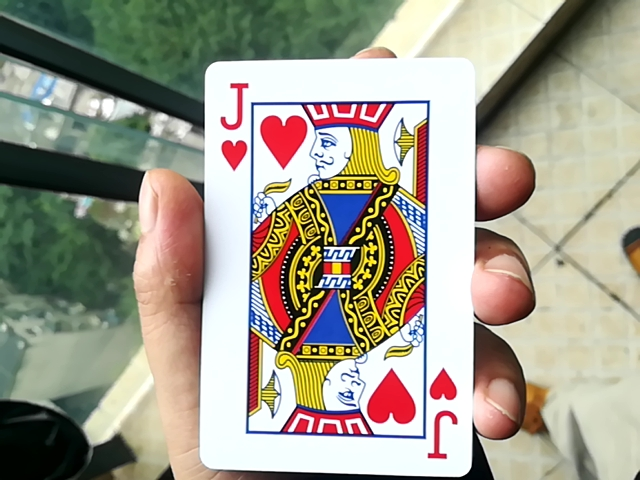hx j: (183, 60, 479, 480)
